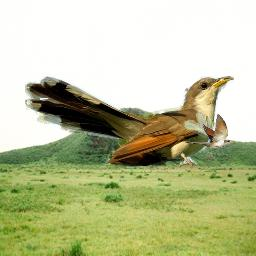Cuckoo: (25, 76, 234, 169), (185, 114, 234, 148)
